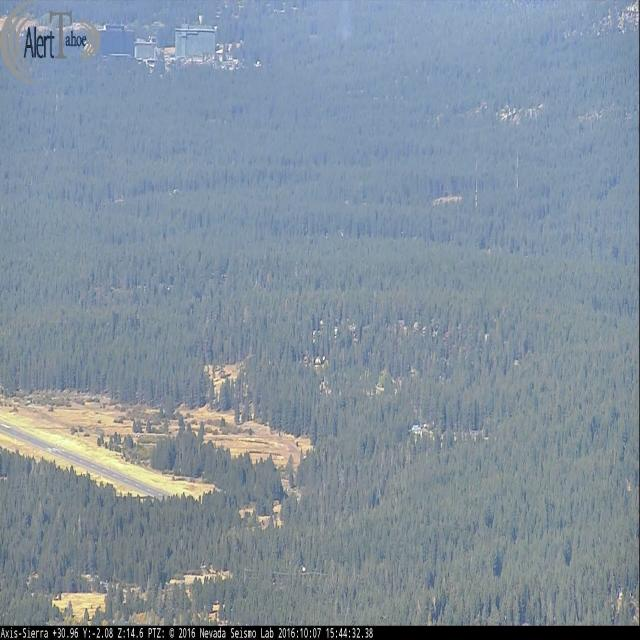smoke: (334, 0, 356, 44)
